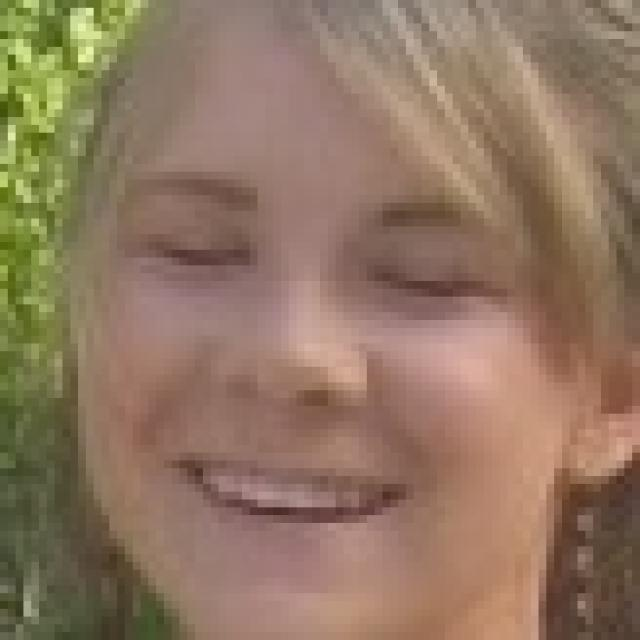close: (356, 166, 522, 327), (115, 159, 271, 290)
